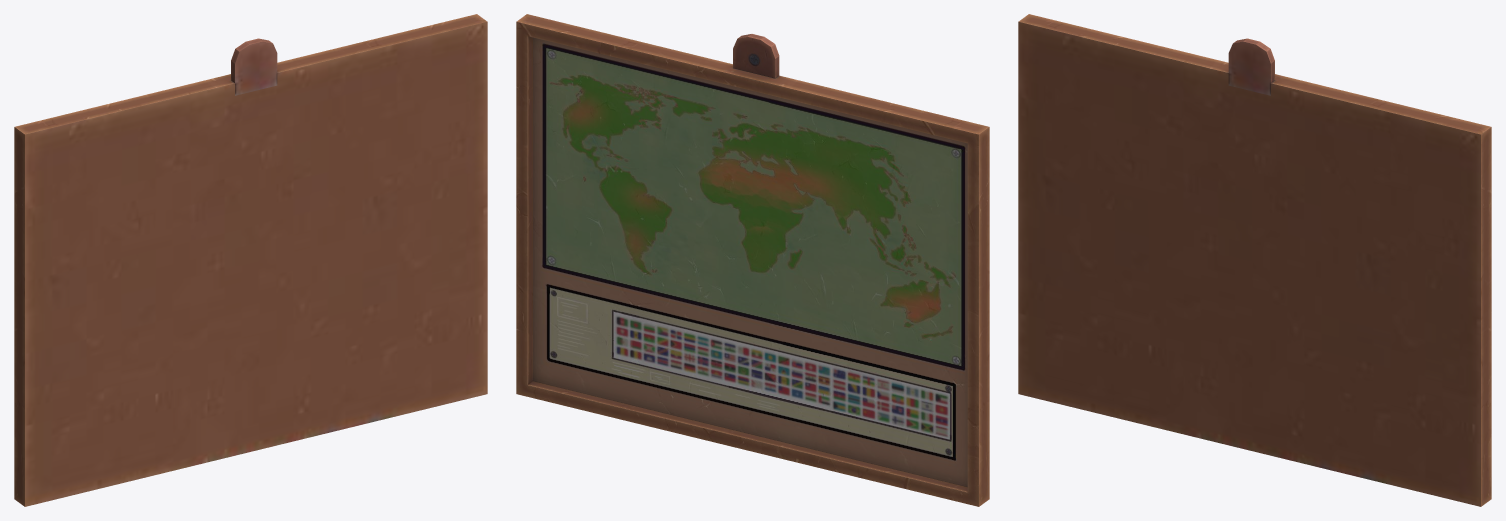
Rendered from Map.obj.
The picture shows the model from 3 angles, left to right: view 1: azimuth 30°, elevation 25°; view 2: azimuth 150°, elevation 25°; view 3: azimuth 330°, elevation 25°; orthographic projection.
Parts seen in each view (by area): view 1: Map; view 2: Map; view 3: Map.
Part boxes in pixels (bbox=[...]): Map: bbox=[14, 14, 487, 506]; Map: bbox=[516, 14, 989, 506]; Map: bbox=[1018, 14, 1491, 506].
Bounding box in the file's own units: 9.15 × 7.7 × 0.3632.
